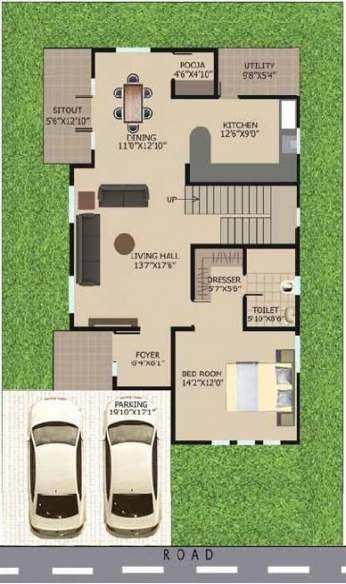room: (170, 244, 298, 446), (70, 166, 193, 326), (191, 94, 301, 189), (92, 49, 175, 169), (111, 331, 171, 387), (168, 50, 217, 102)
wall: (187, 232, 302, 258), (185, 174, 302, 191), (165, 321, 178, 449), (150, 40, 226, 60), (234, 86, 303, 106), (293, 372, 310, 447), (68, 319, 146, 335), (184, 236, 202, 303), (112, 375, 175, 394), (286, 226, 309, 277), (289, 152, 309, 207), (63, 221, 82, 276), (170, 431, 213, 455), (206, 45, 223, 104), (241, 319, 305, 334), (170, 91, 229, 107), (289, 293, 306, 336), (276, 435, 313, 452), (237, 297, 253, 333), (292, 95, 308, 131), (239, 242, 254, 278), (85, 43, 99, 79), (63, 160, 105, 172), (170, 322, 199, 338), (64, 160, 80, 187), (165, 77, 182, 101), (88, 44, 117, 56), (83, 146, 99, 167), (183, 162, 193, 192), (67, 309, 77, 333)
window: (209, 432, 288, 457), (115, 36, 152, 61), (62, 184, 79, 224), (64, 274, 79, 317), (292, 333, 306, 377), (106, 354, 122, 378), (293, 205, 307, 232), (294, 126, 306, 155), (87, 128, 100, 149), (86, 76, 95, 99), (296, 274, 302, 300)
